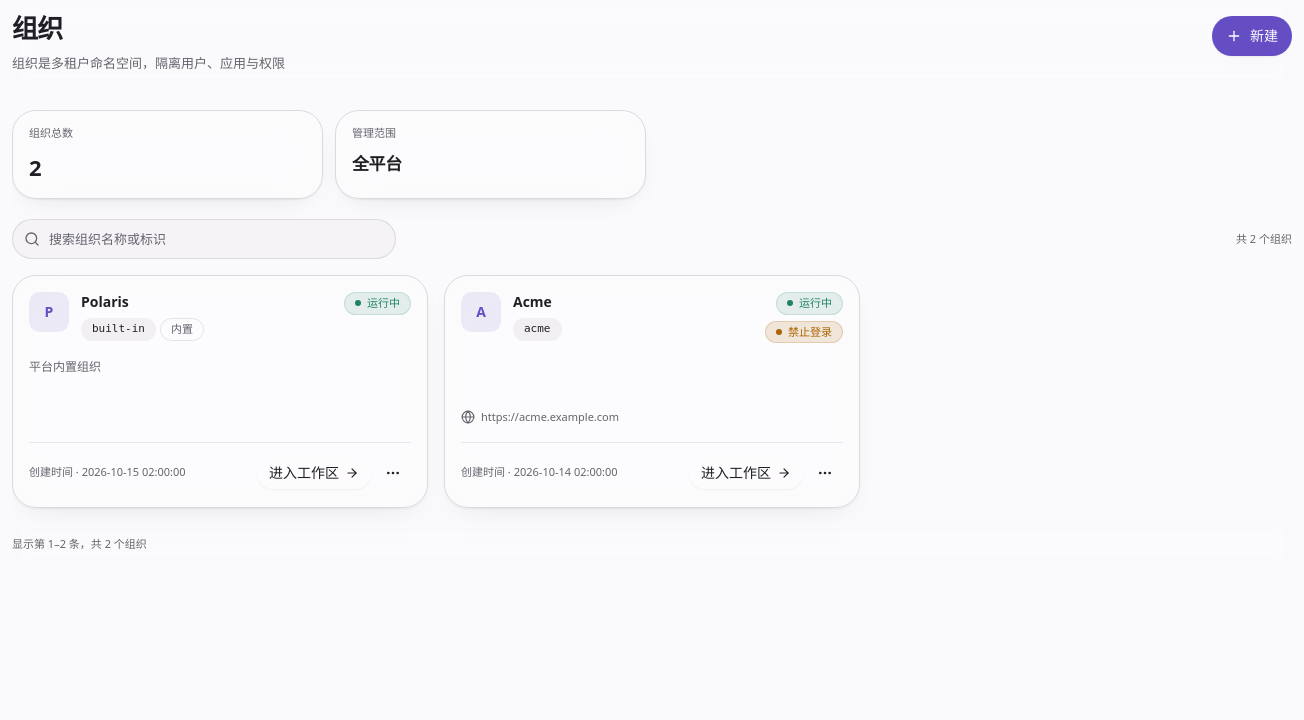
InstitutionsPage › 内置组织不给删除入口，普通组织提供删除
The image size is (1304, 720).
Click the button named "操作" in the row of "2026-10-15 02:00:00".
click(393, 473)  # box [375,455,411,491]
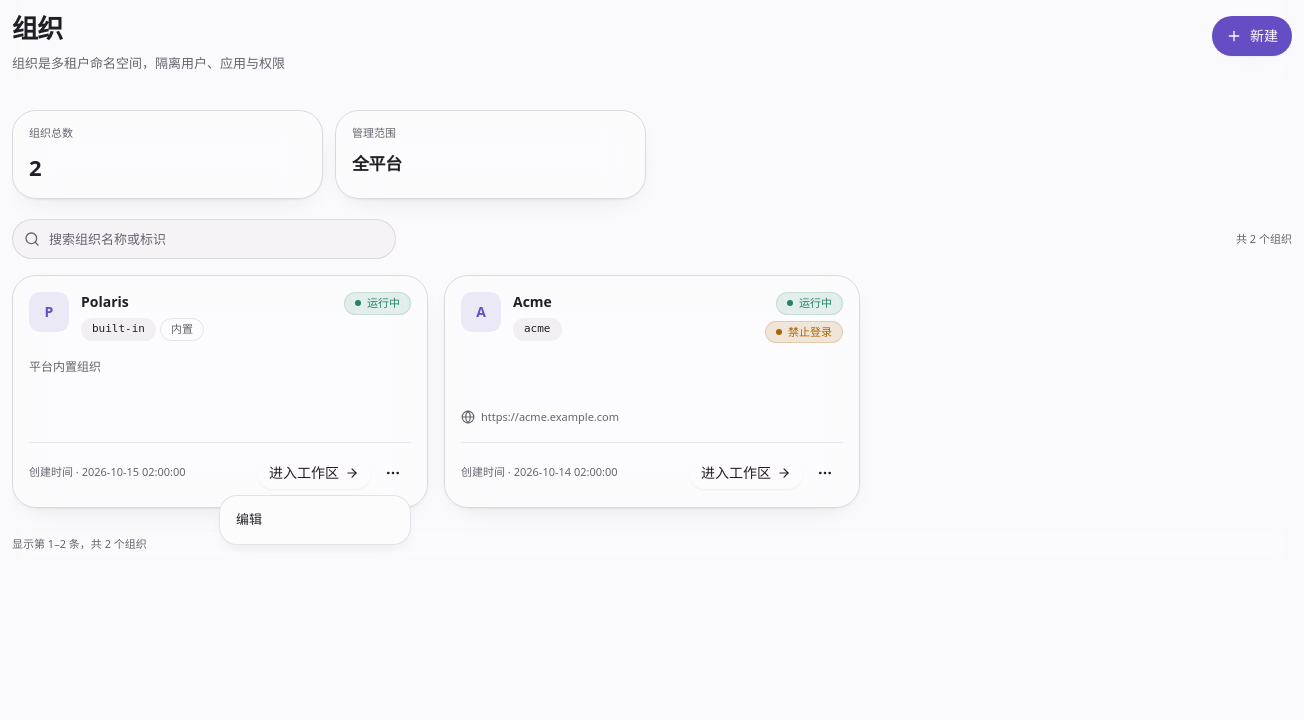
Expected: the menu item "删除" is not shown
Expected: the menu item "编辑" is shown, [236,510,262,528]
Press Escape
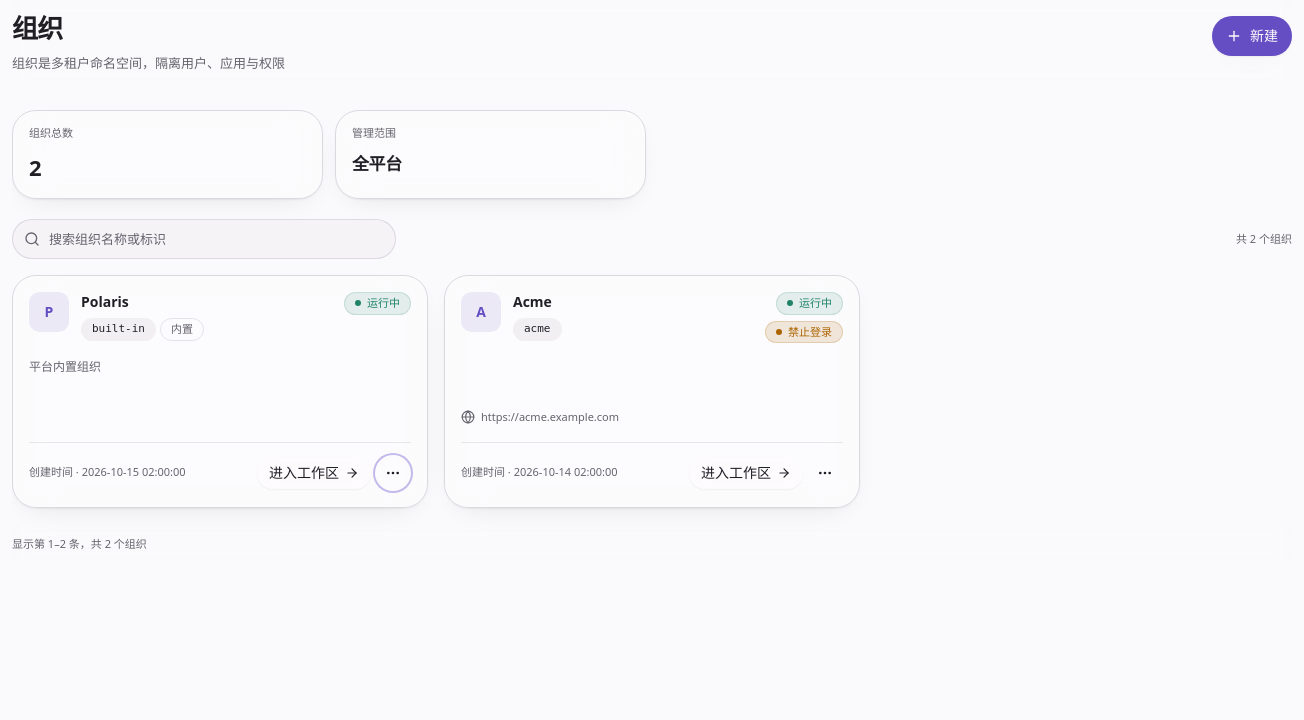
Click the button named "操作" in the row of "2026-10-14 02:00:00".
click(825, 473)  # box [807,455,843,491]
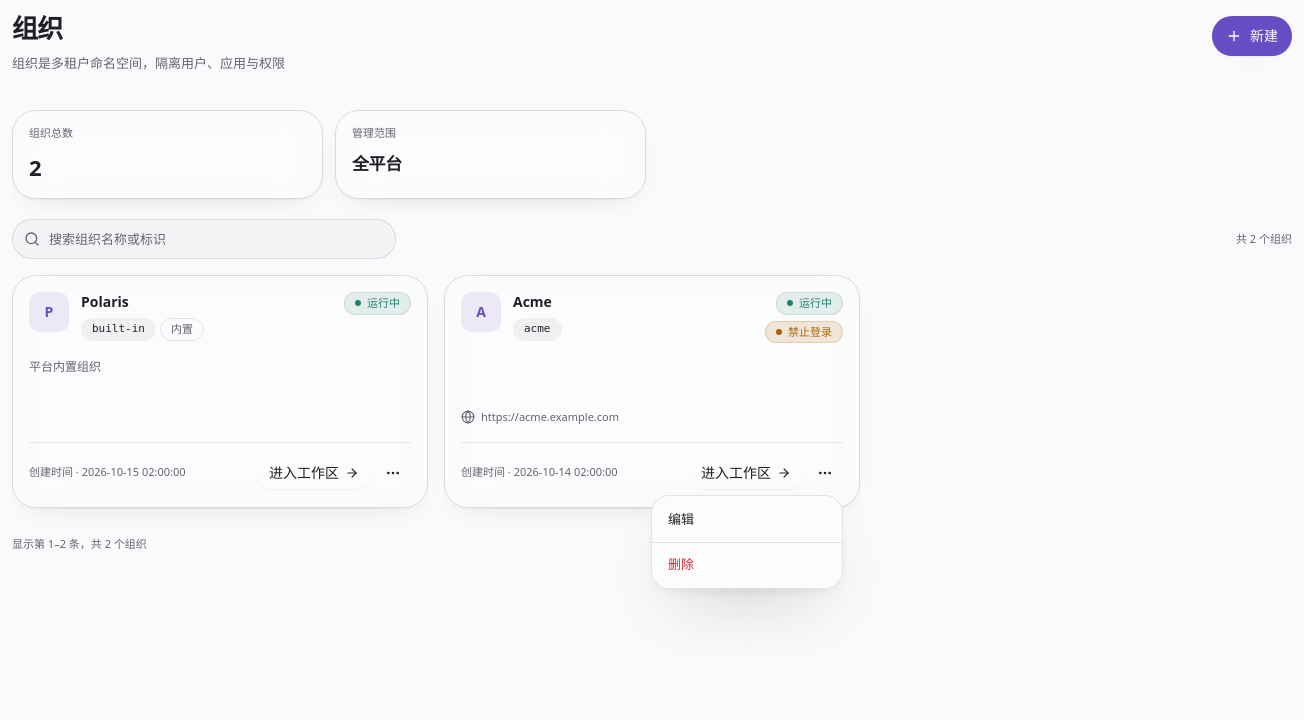
Expected: the menu item "删除" is shown, [668,554,694,572]
